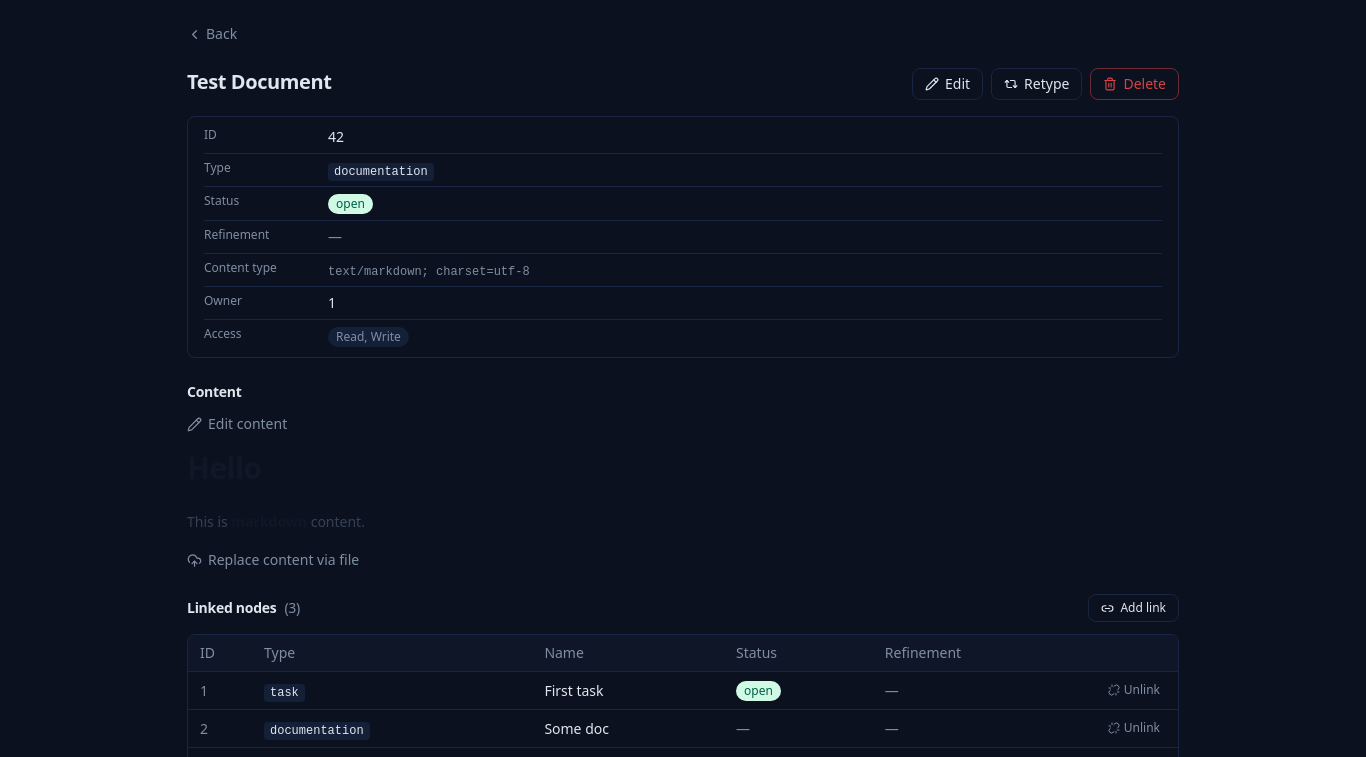
Test: NodeDetailPage — write affordances › opens delete confirmation dialog when Delete is clicked
Click the button with aria-label "delete node": x=1135, y=84 [1090,68,1179,100]
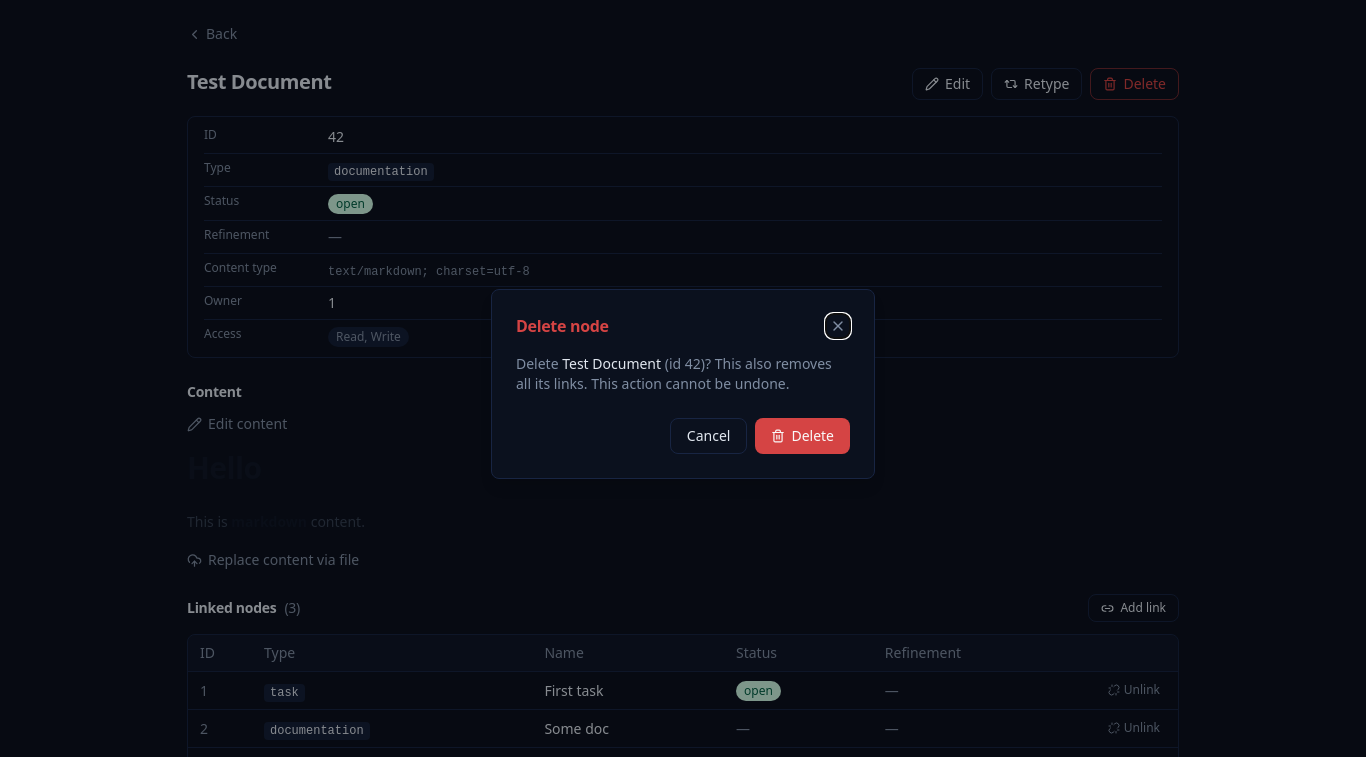
Check: the dialog "Delete node" is shown, box [491,289,875,479]
